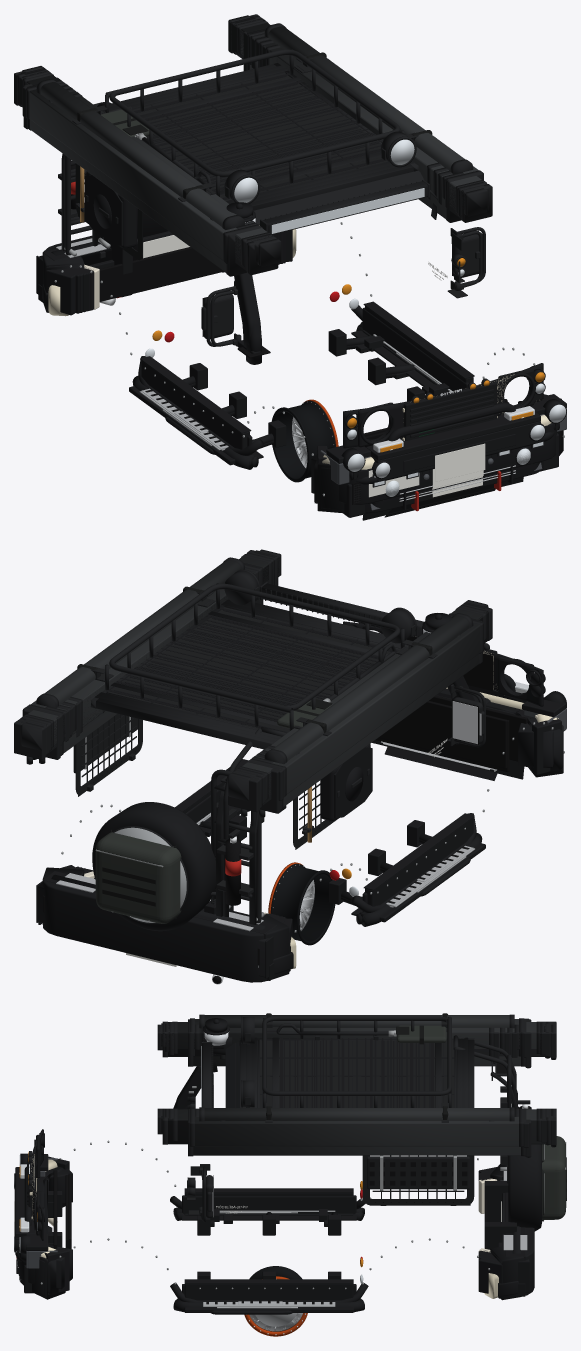
Rendered from parts.glb.
3 renders of one model, top to bottom at view 1: azimuth 30°, elevation 25°; view 2: azimuth 150°, elevation 25°; view 3: azimuth 270°, elevation 25°, orthographic. The views are drawn at different scales.
Visible parts, largest first — view 1: bag.024, bag.001, hoop, valance.027, bag, barrel.005, body.001, bag.022, face-1.001, deck, panel1, face.012 (+34 smaller); view 2: body.025, bag.024, bag.002, shell, bag.001, bay.001, hoop, bag, barrel.005, bag.022, end-1352.5, face-1.001 (+52 smaller); view 3: bag.010, bag, bag.008, face1.001, board, shell, panel-1, hoop, bag.001, bag.028, bag.002, body.025 (+38 smaller).
Boxes of the visible parts, x1,y1,x2,y2 form: bag.024: (29, 89, 231, 260); bag.001: (40, 82, 236, 226); hoop: (105, 49, 400, 176); valance.027: (99, 247, 223, 301); bag: (268, 26, 464, 170); barrel.005: (271, 400, 335, 482); body.001: (311, 401, 557, 504); bag.022: (30, 119, 226, 272); face-1.001: (141, 360, 249, 449); deck: (366, 412, 540, 460); panel1: (362, 307, 468, 390); face.012: (370, 421, 540, 481); body.025: (42, 867, 289, 982); bag.024: (274, 623, 480, 794); bag.002: (95, 832, 181, 923); shell: (92, 802, 215, 931); bag.001: (272, 616, 469, 760); bay.001: (379, 701, 507, 768); hoop: (109, 583, 400, 712); bag: (44, 560, 241, 704); barrel.005: (270, 863, 335, 945); bag.022: (283, 654, 479, 806); end-1352.5: (96, 698, 275, 749); face-1.001: (365, 817, 473, 906); bag.010: (195, 1119, 518, 1146); bag: (204, 1108, 509, 1120); bag.008: (193, 1146, 520, 1155); face1.001: (184, 1284, 353, 1300); board: (367, 1156, 469, 1189); shell: (508, 1144, 542, 1231); panel-1: (182, 1195, 356, 1214); hoop: (262, 1016, 451, 1095); bag.001: (204, 1015, 509, 1027); bag.028: (177, 1025, 536, 1048); bag.002: (542, 1136, 566, 1219); body.025: (490, 1164, 534, 1300).
Bounding box in the file's own units: 1.85 × 2.1 × 3.76.
